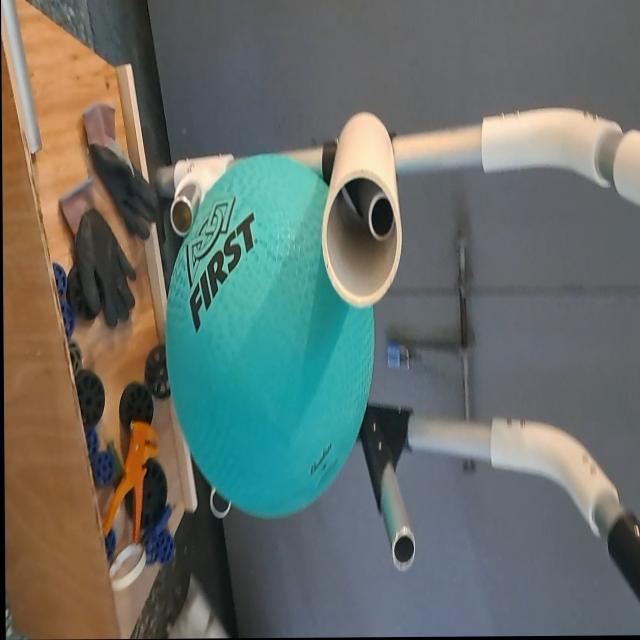ALGAE: (158, 155, 376, 523)
CORAL: (316, 109, 405, 308)
